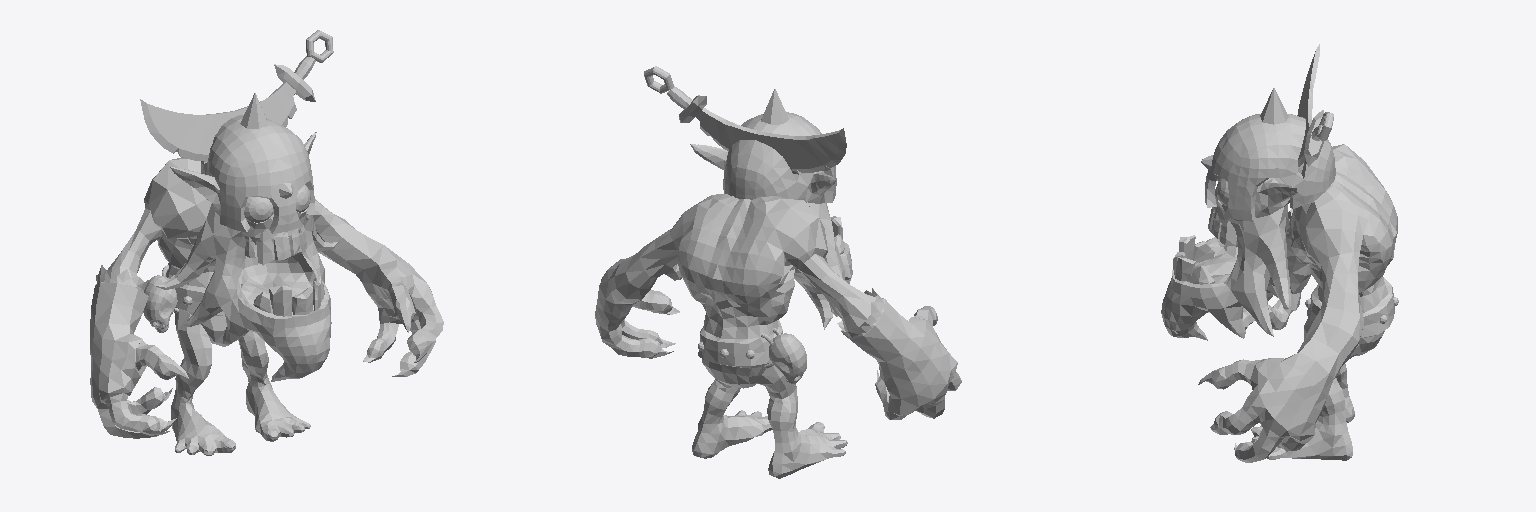
File: zombi.obj
The picture shows the model from 3 angles: view 1: azimuth 30°, elevation 25°; view 2: azimuth 150°, elevation 25°; view 3: azimuth 270°, elevation 25°; orthographic projection.
Visible parts, largest first — view 1: Zombie_warrior_1; view 2: Zombie_warrior_1; view 3: Zombie_warrior_1.
Boxes of the visible parts, x1=… form: Zombie_warrior_1: x1=90, y1=30, x2=443, y2=455; Zombie_warrior_1: x1=595, y1=66, x2=961, y2=478; Zombie_warrior_1: x1=1161, y1=44, x2=1398, y2=462.
Bounding box in the file's own units: 56.85 × 59.06 × 34.13.